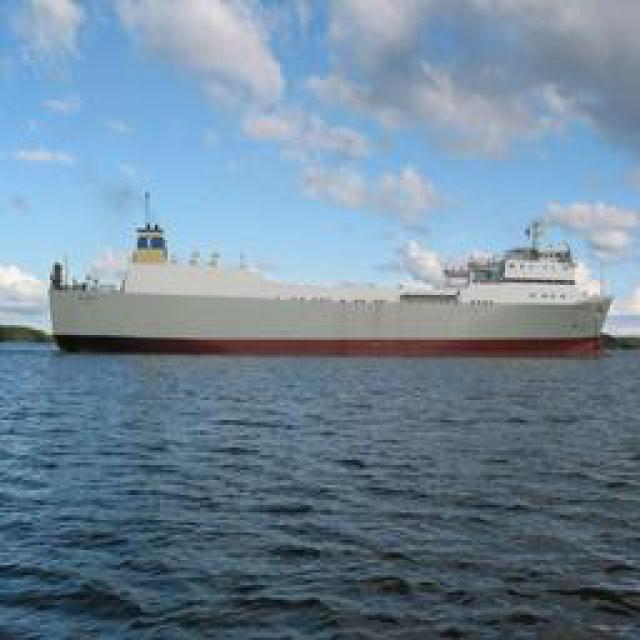Ship: (51, 232, 601, 360)
